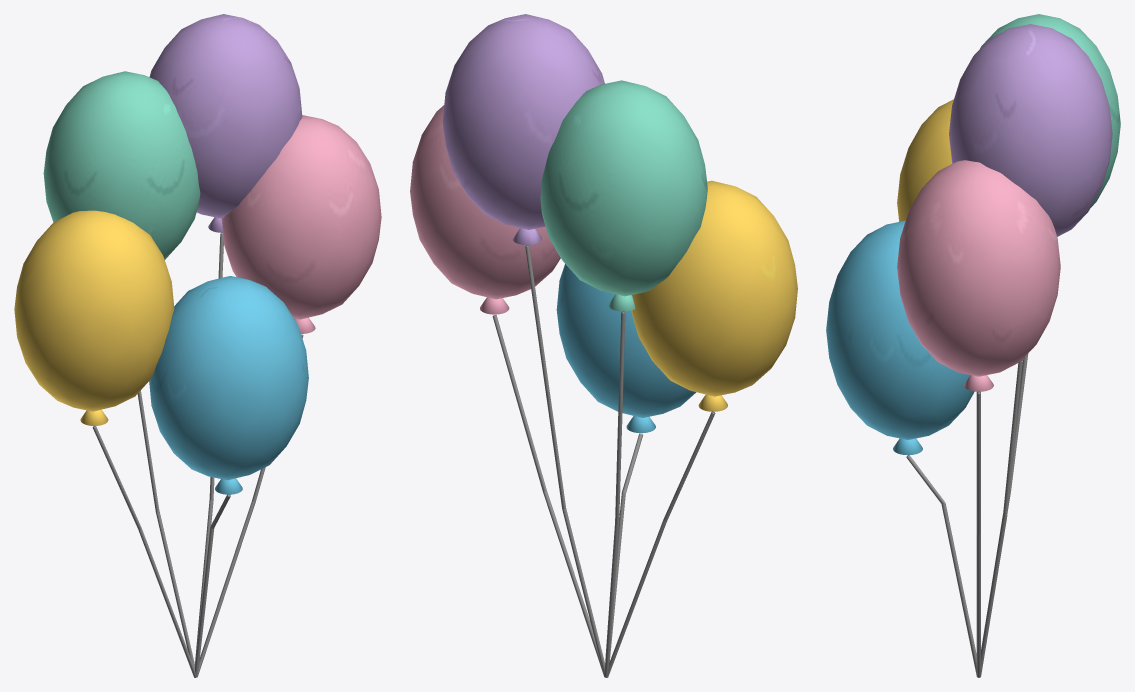
File: ramo_globos.obj
3 renders of one model, left to right at view 1: azimuth 30°, elevation 25°; view 2: azimuth 150°, elevation 25°; view 3: azimuth 270°, elevation 25°, orthographic. The views are drawn at different scales.
Visible parts, largest first — view 1: ramo_globos; view 2: ramo_globos; view 3: ramo_globos.
Part boxes in pixels (x1,y1,x2,y2): ramo_globos: (14,14,381,677); ramo_globos: (410,14,797,677); ramo_globos: (826,14,1120,677).
Size of the model in its own units: 1.58 by 2.72 by 1.08.
6 materials, 6 textured.
